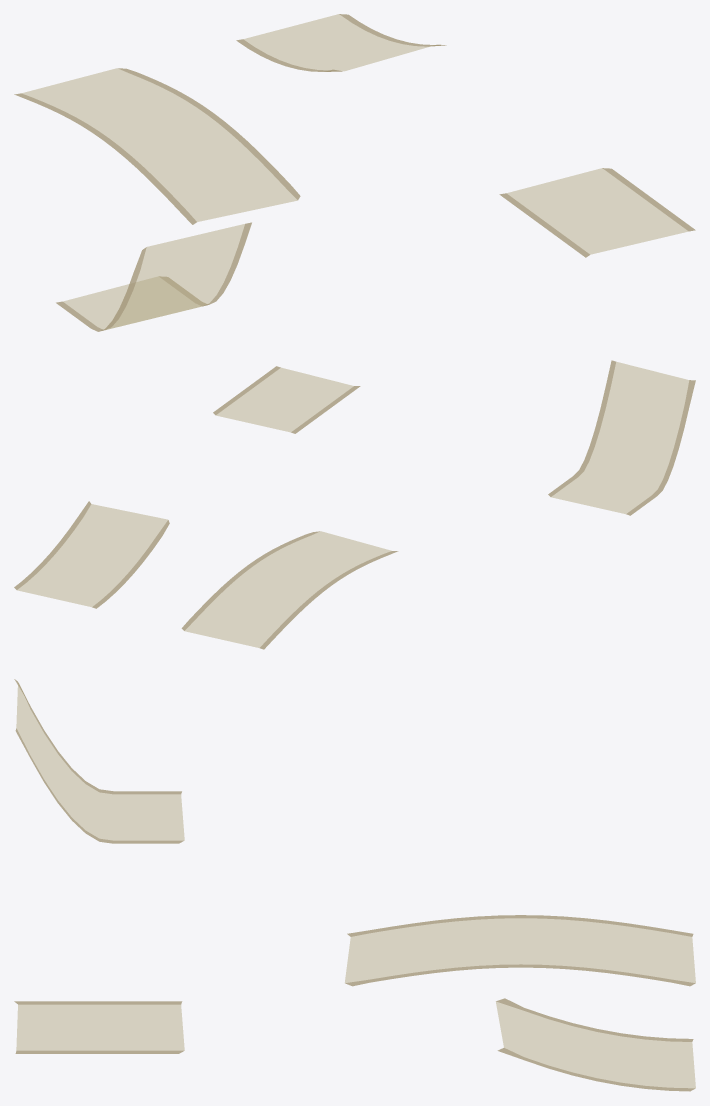
File: A06_AdhesiveParts_ROOT.fbx
3 renders of one model, top to bottom at view 1: azimuth 30°, elevation 25°; view 2: azimuth 150°, elevation 25°; view 3: azimuth 270°, elevation 25°, orthographic. The views are drawn at different scales.
Visible parts, largest first — view 1: A06_StretchableSegment, A06_Patch_L, A06_Patch_R, A06_TornSmallPiece; view 2: A06_Patch_L, A06_StretchableSegment, A06_TornSmallPiece, A06_Patch_R; view 3: A06_StretchableSegment, A06_TornSmallPiece, A06_Patch_L, A06_Patch_R.
Part boxes in pixels (x1,y1,x2,y2): A06_StretchableSegment: [14, 68, 300, 224]; A06_Patch_L: [56, 222, 251, 331]; A06_Patch_R: [499, 168, 695, 257]; A06_TornSmallPiece: [236, 14, 446, 71]; A06_Patch_L: [548, 360, 695, 515]; A06_StretchableSegment: [181, 531, 398, 649]; A06_TornSmallPiece: [14, 501, 169, 608]; A06_Patch_R: [213, 366, 360, 433]; A06_StretchableSegment: [345, 915, 695, 986]; A06_TornSmallPiece: [496, 998, 695, 1091]; A06_Patch_L: [14, 679, 184, 843]; A06_Patch_R: [14, 1001, 184, 1053].
Bounding box in the file's own units: 4.5 × 1.2 × 4.94.
